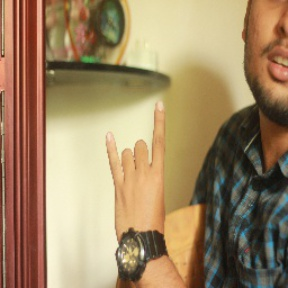V: (103, 99, 173, 239)
